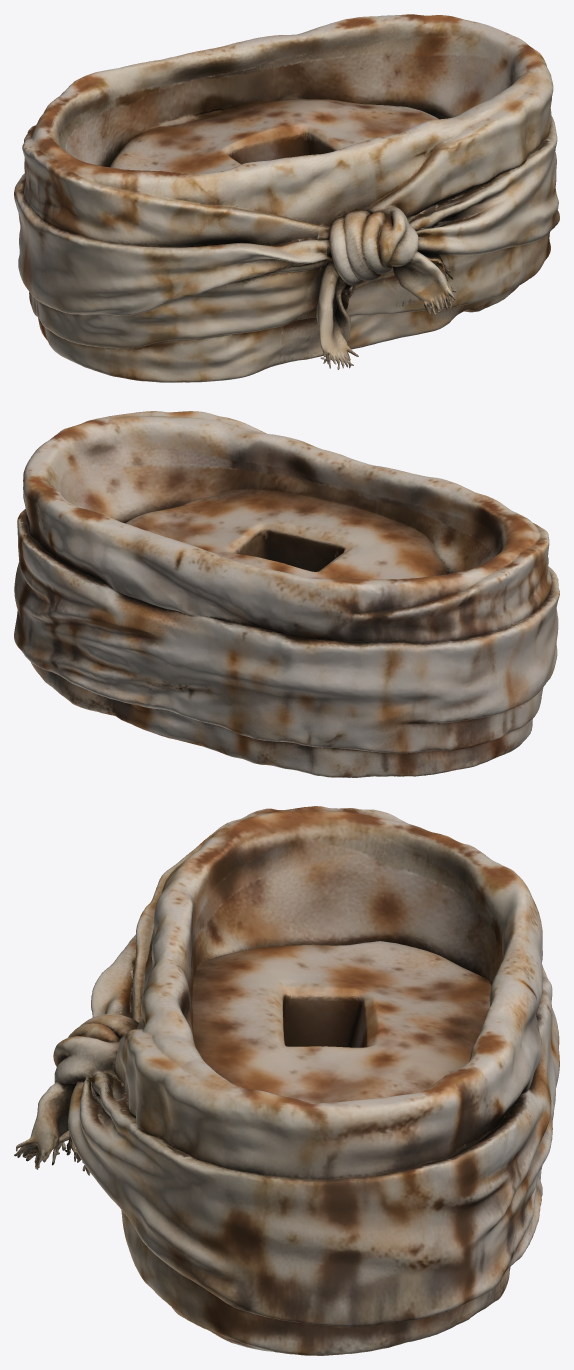
The model's file is compressed-ikat kepala.glb.
3 views of the same model, one above another, from view 1: azimuth 30°, elevation 25°; view 2: azimuth 150°, elevation 25°; view 3: azimuth 270°, elevation 25° (orthographic). The views are drawn at different scales.
Size of the model in its own units: 1.9 by 0.7377 by 1.39.
1 material, 1 textured.
